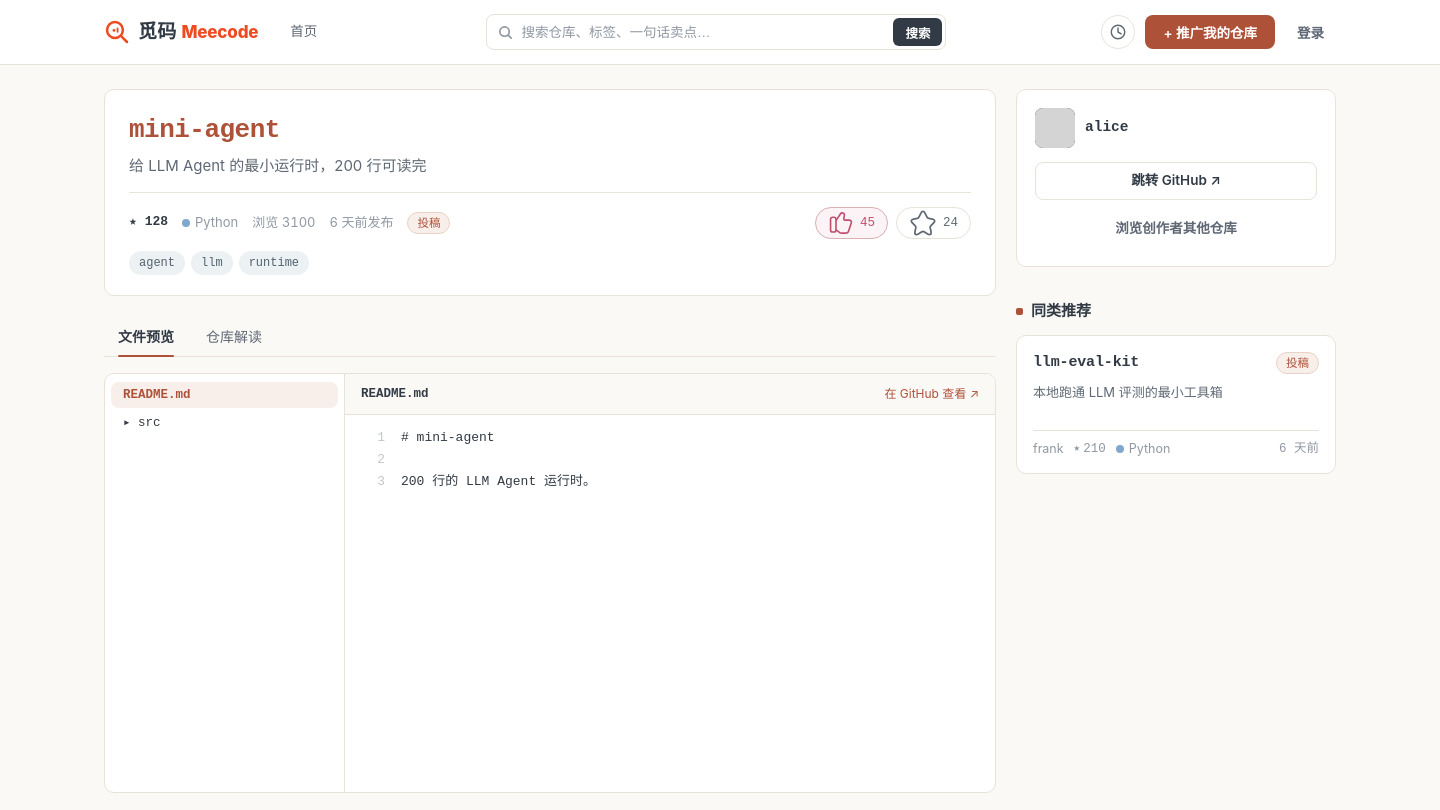
Test case: RepoPage › 默认展示文件预览，可切换文件
The width and height of the screenshot is (1440, 810).
Check: the element with test id "code-content" shows "200 行的 LLM Agent 运行时", box x1=401 y1=474 x2=596 y2=489
Note: 目录默认收起：先展开 src 再点 main.py
Click the button "▸ src": (224, 422) x1=111 y1=408 x2=338 y2=436
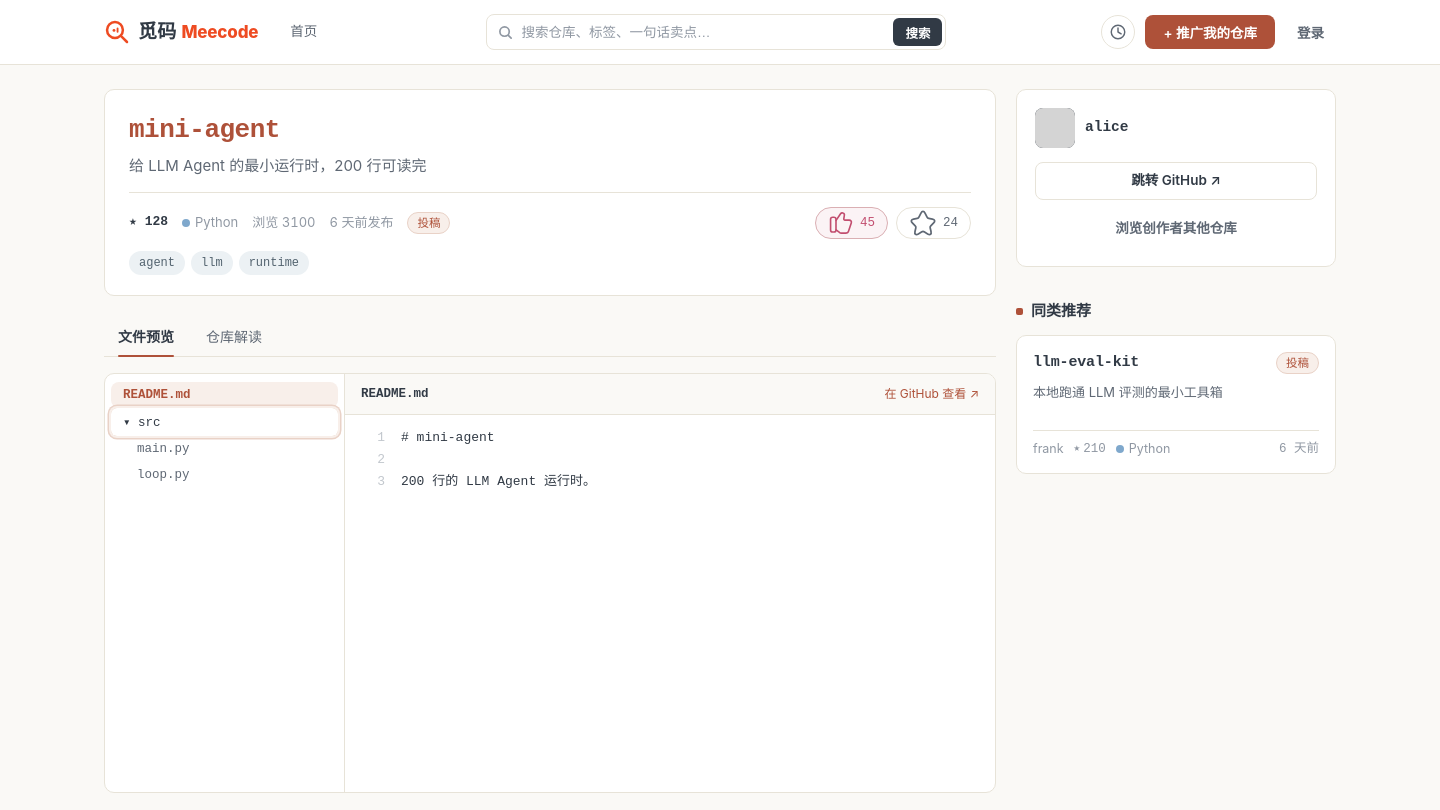
Click the button "main.py": (224, 449) x1=111 y1=436 x2=338 y2=462
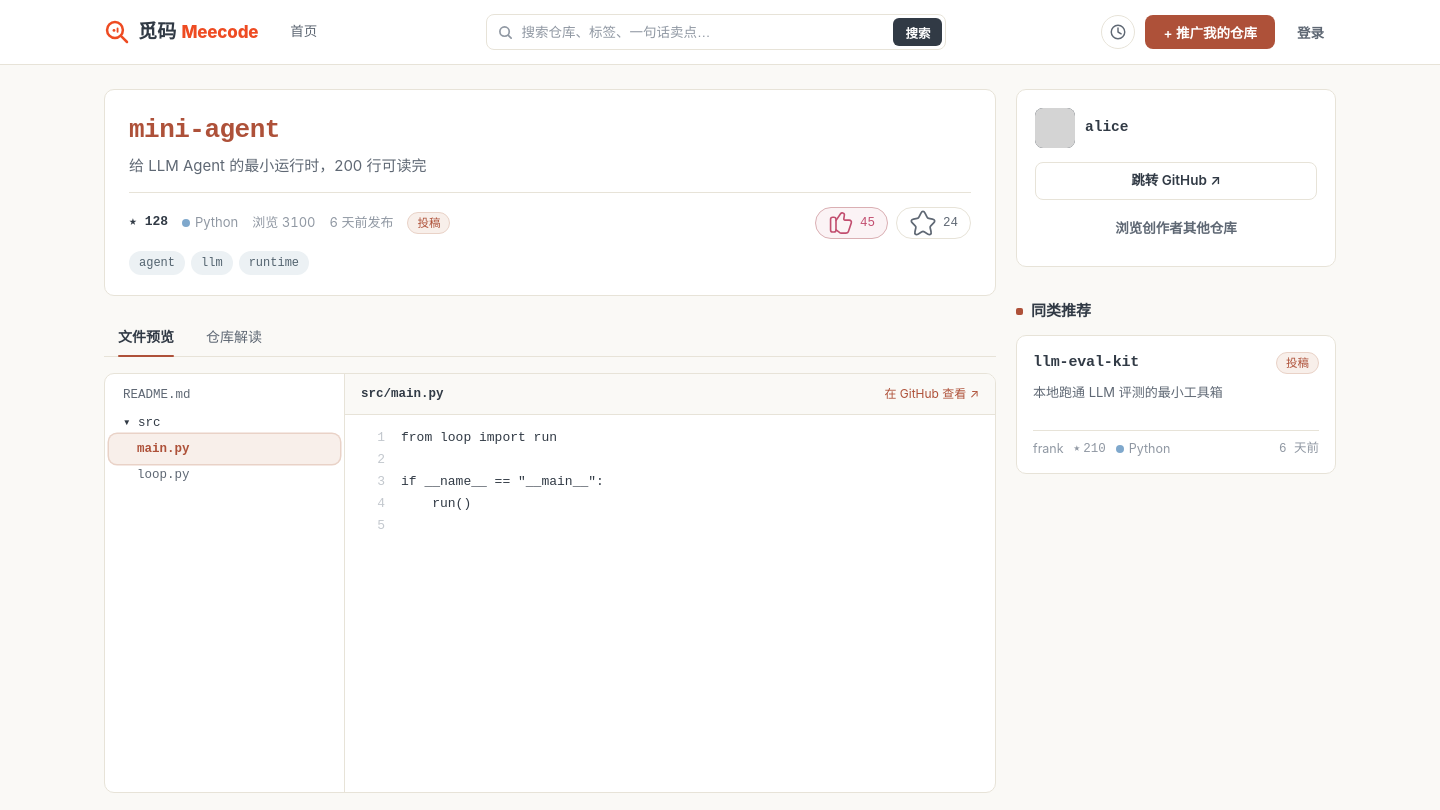
Check: the element with test id "code-content" shows "from loop import run", box x1=401 y1=430 x2=557 y2=445
